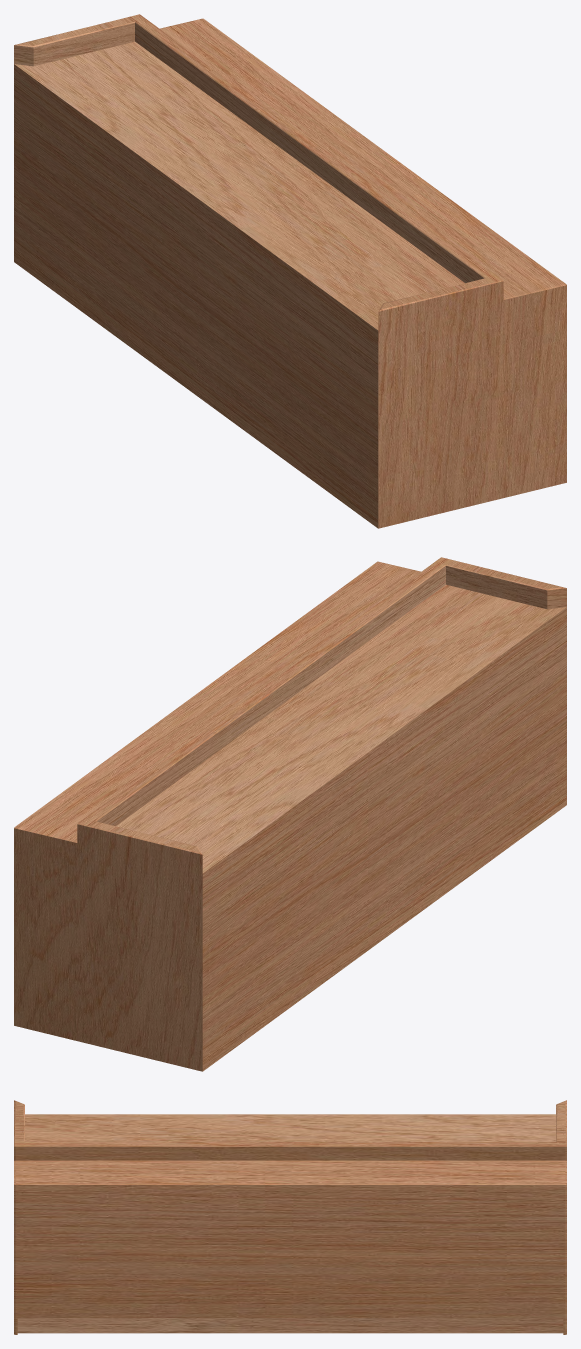
File: CafeCounter.fbx
3 renders of one model, top to bottom at view 1: azimuth 30°, elevation 25°; view 2: azimuth 150°, elevation 25°; view 3: azimuth 270°, elevation 25°, orthographic. The views are drawn at different scales.
Parts seen in each view (by area): view 1: CafeCounter; view 2: CafeCounter; view 3: CafeCounter.
Part boxes in pixels (bbox=[...]): CafeCounter: bbox=[14, 14, 566, 528]; CafeCounter: bbox=[14, 557, 566, 1071]; CafeCounter: bbox=[14, 1100, 566, 1334].
Bounding box in the file's own units: 240 × 264 × 800.
